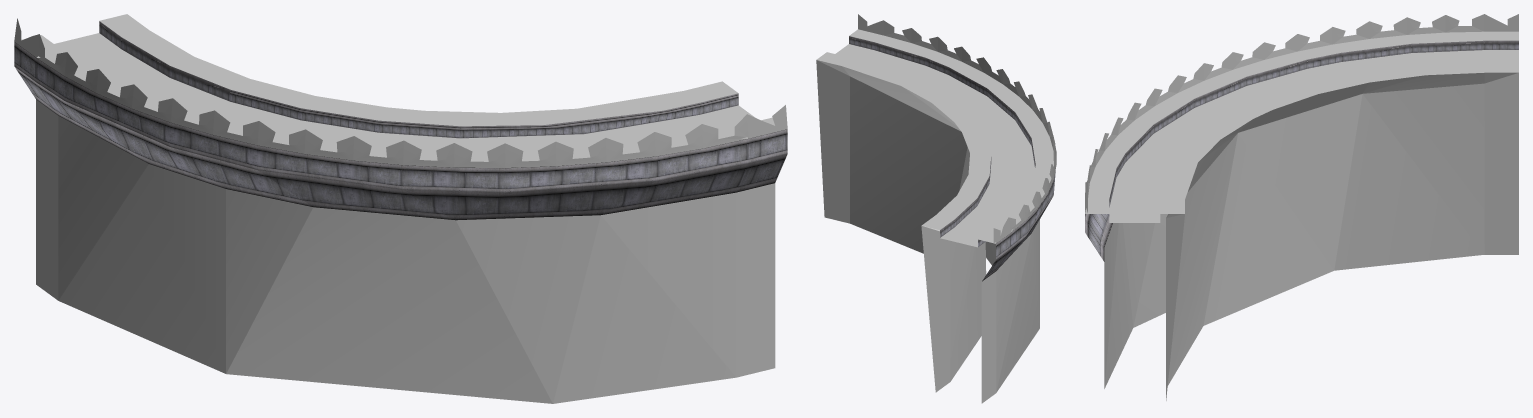
File: LightcurveWall.fbx
The picture shows the model from 3 angles, left to right: view 1: azimuth 30°, elevation 25°; view 2: azimuth 150°, elevation 25°; view 3: azimuth 270°, elevation 25°; orthographic projection. The views are drawn at different scales.
Parts seen in each view (by area): view 1: curveWall; view 2: curveWall; view 3: curveWall.
Boxes of the visible parts, x1,y1,x2,y2 form: curveWall: (14,14,787,403); curveWall: (816,14,1056,403); curveWall: (1085,14,1518,400).
Size of the model in its own units: 1729 by 915 by 1729.
